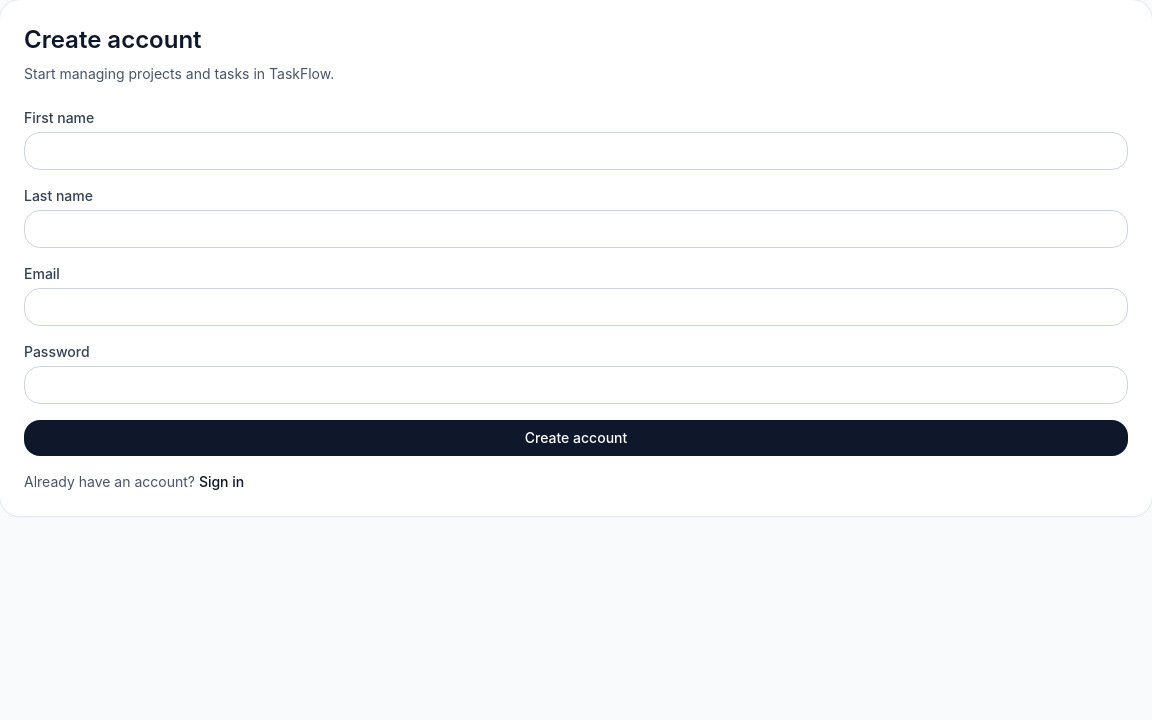
Scenario: RegisterForm › requires password length of at least 8 characters
In the field labelled "First name": (576, 151) [24,132,1128,170], type "John"
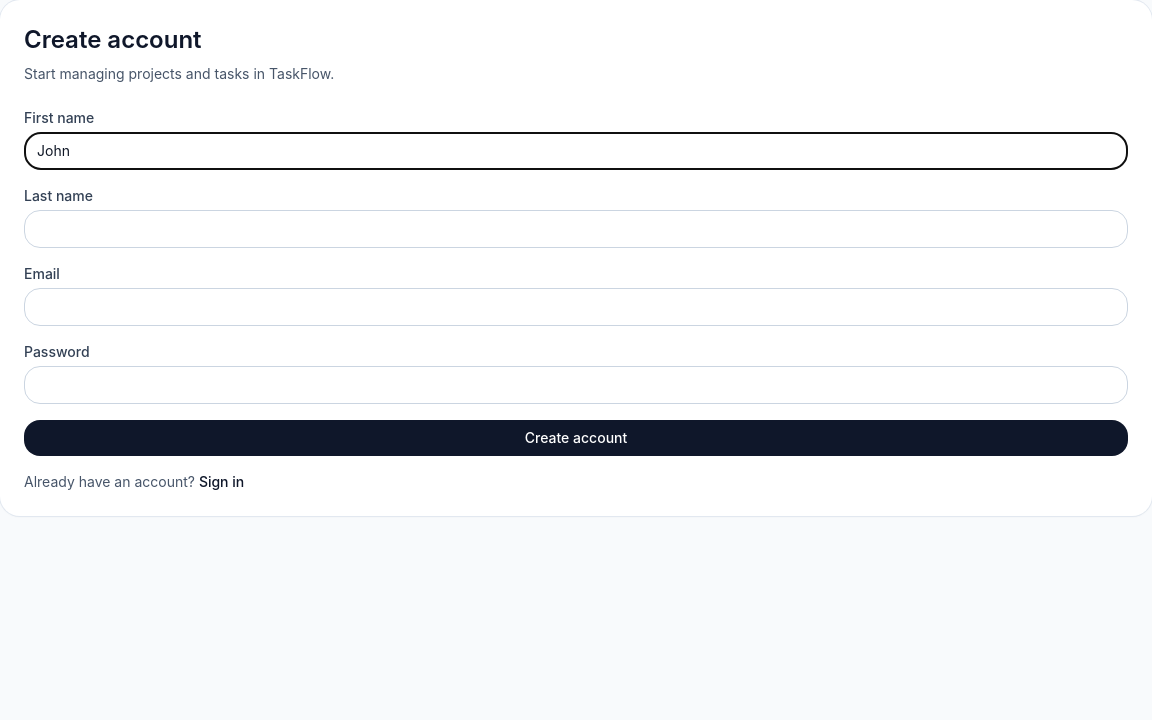
In the field labelled "Last name": (576, 229) [24,210,1128,248], type "Doe"
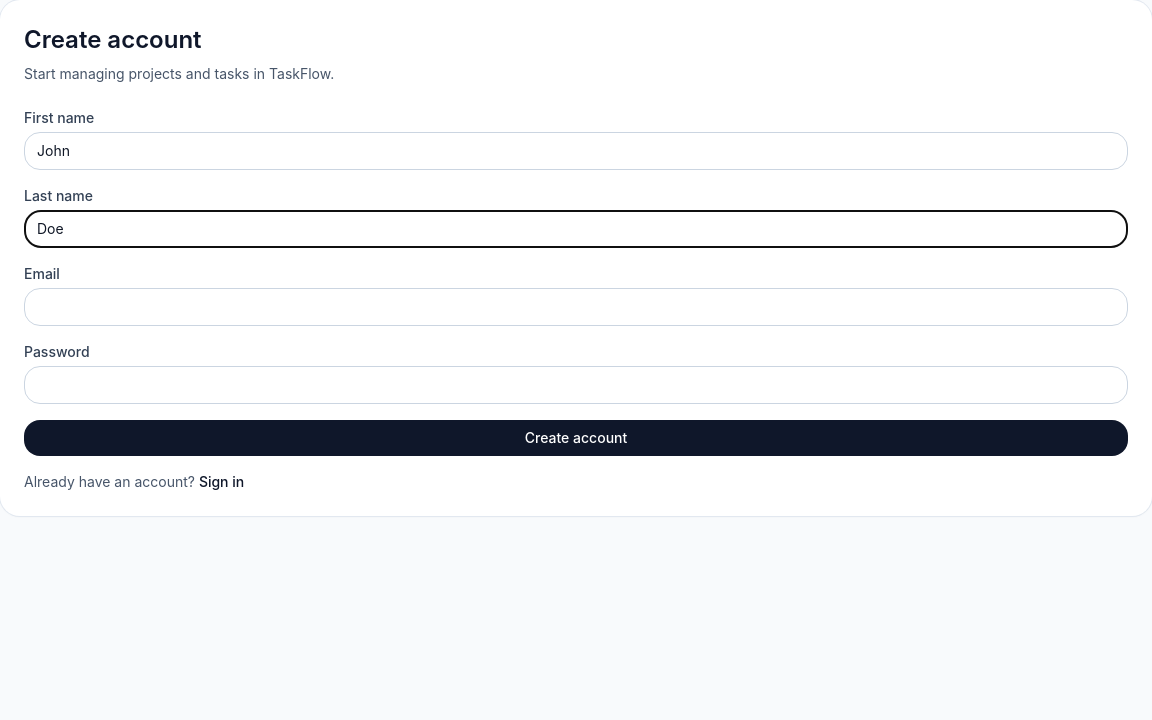
In the field labelled "Email": (576, 307) [24,288,1128,326], type "john@example.com"
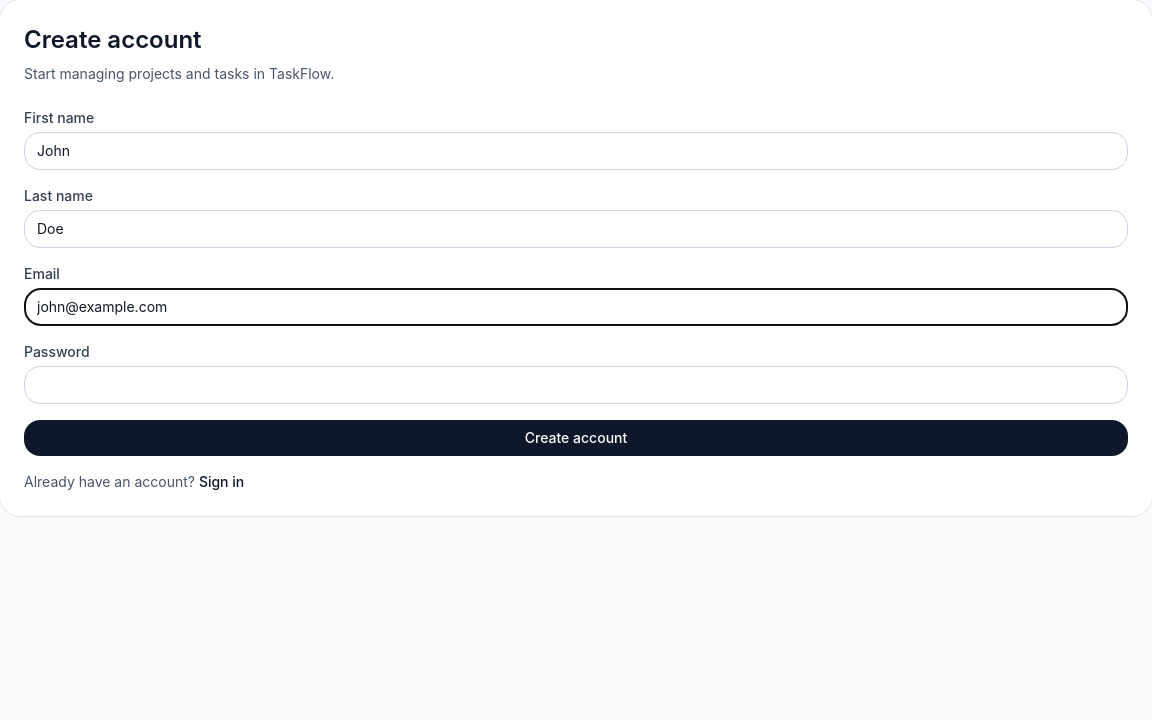
In the password field labelled "Password": (576, 385) [24,366,1128,404], type "short"
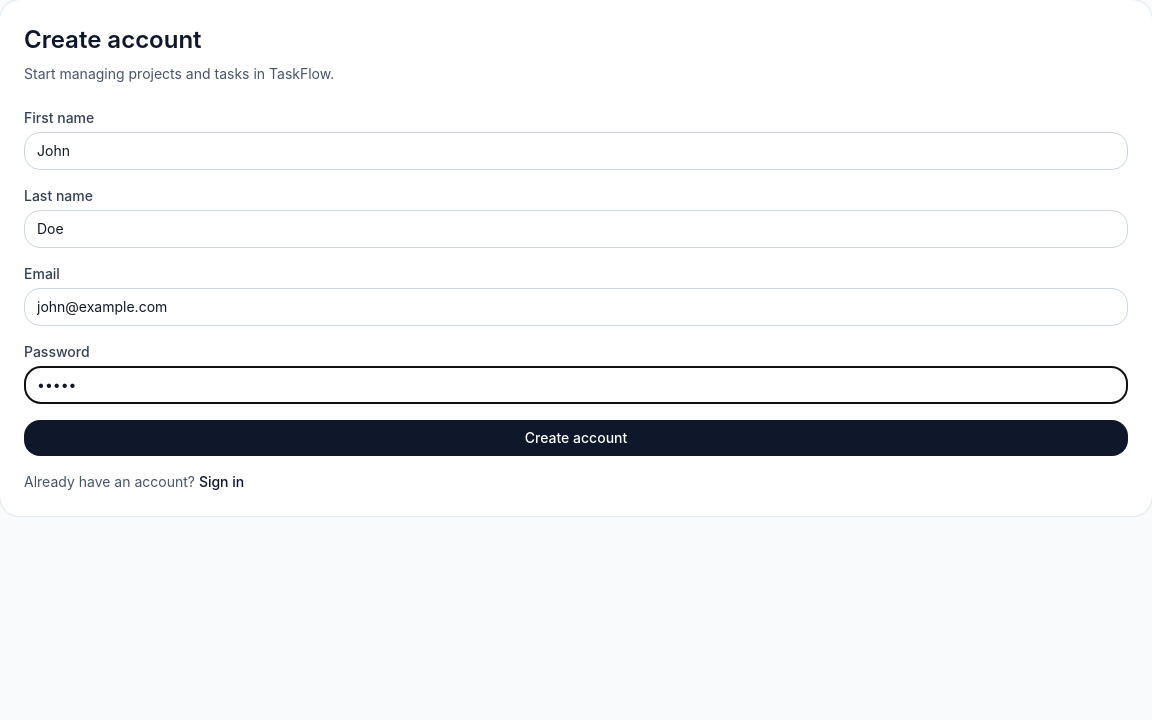
Click the button "Create account": click(576, 438) [24,420,1128,456]
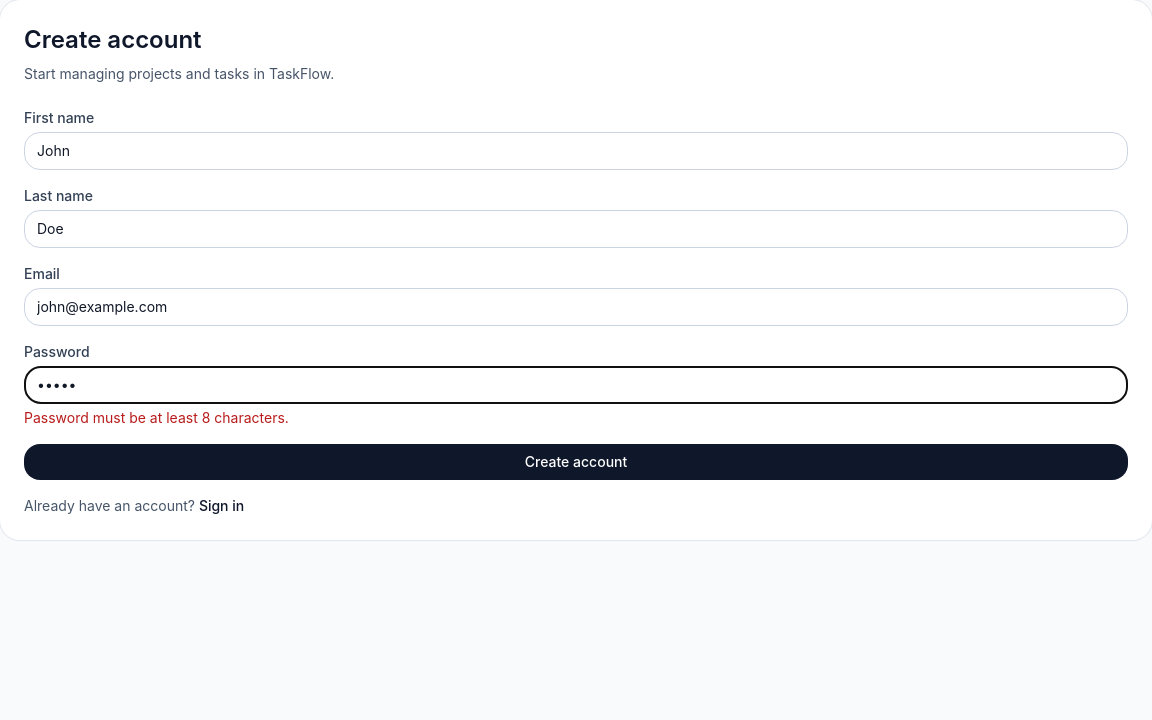
Check: the text "Password must be at least 8 characters." is shown, box [24,409,289,426]
